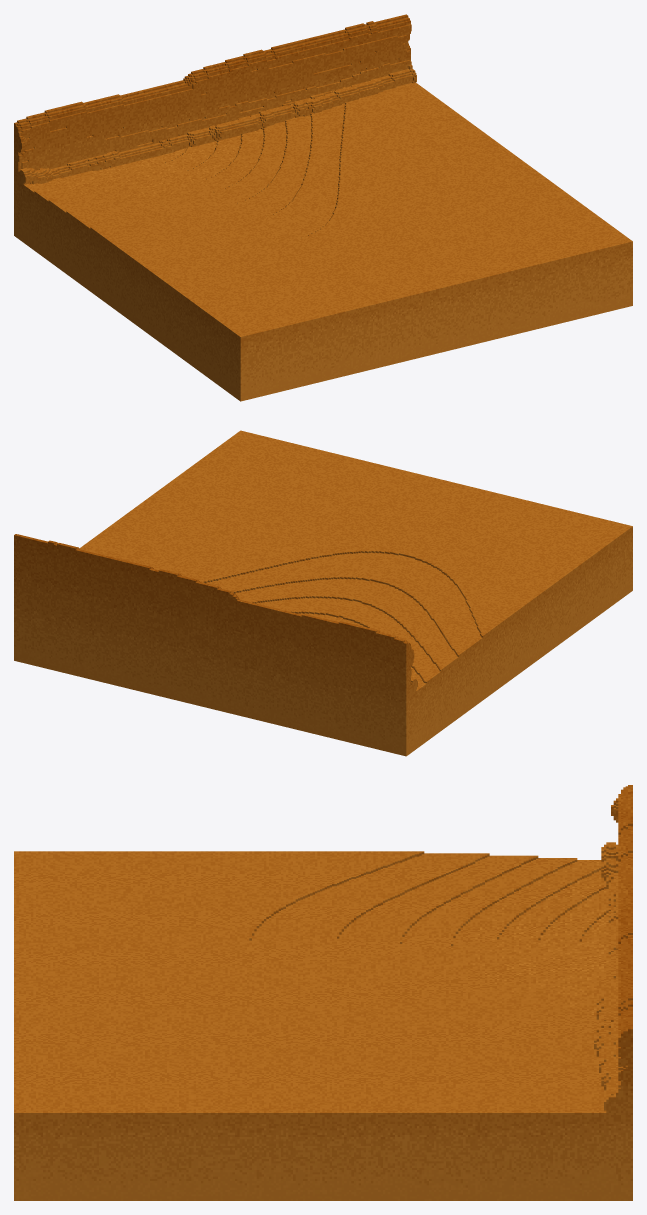
File: Marte-1.obj
3 views of the same model, one above another, from view 1: azimuth 30°, elevation 25°; view 2: azimuth 150°, elevation 25°; view 3: azimuth 270°, elevation 25° (orthographic). The views are drawn at different scales.
Size of the model in its own units: 25.5 by 7.9 by 25.5.
Materials: 1 (1 with a texture image).
